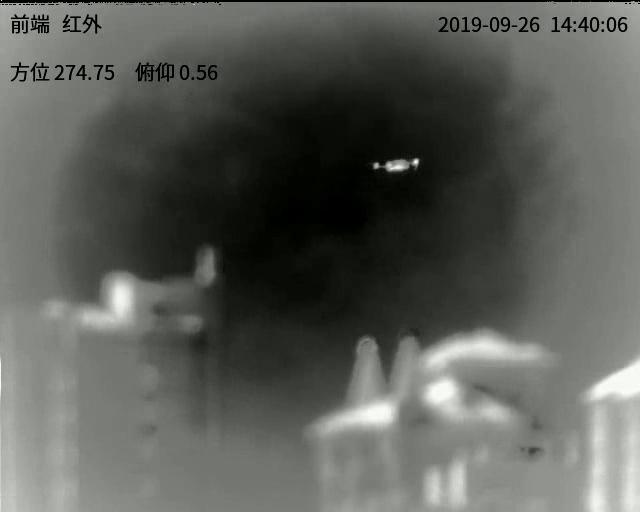DRONE: (371, 156, 421, 174)
